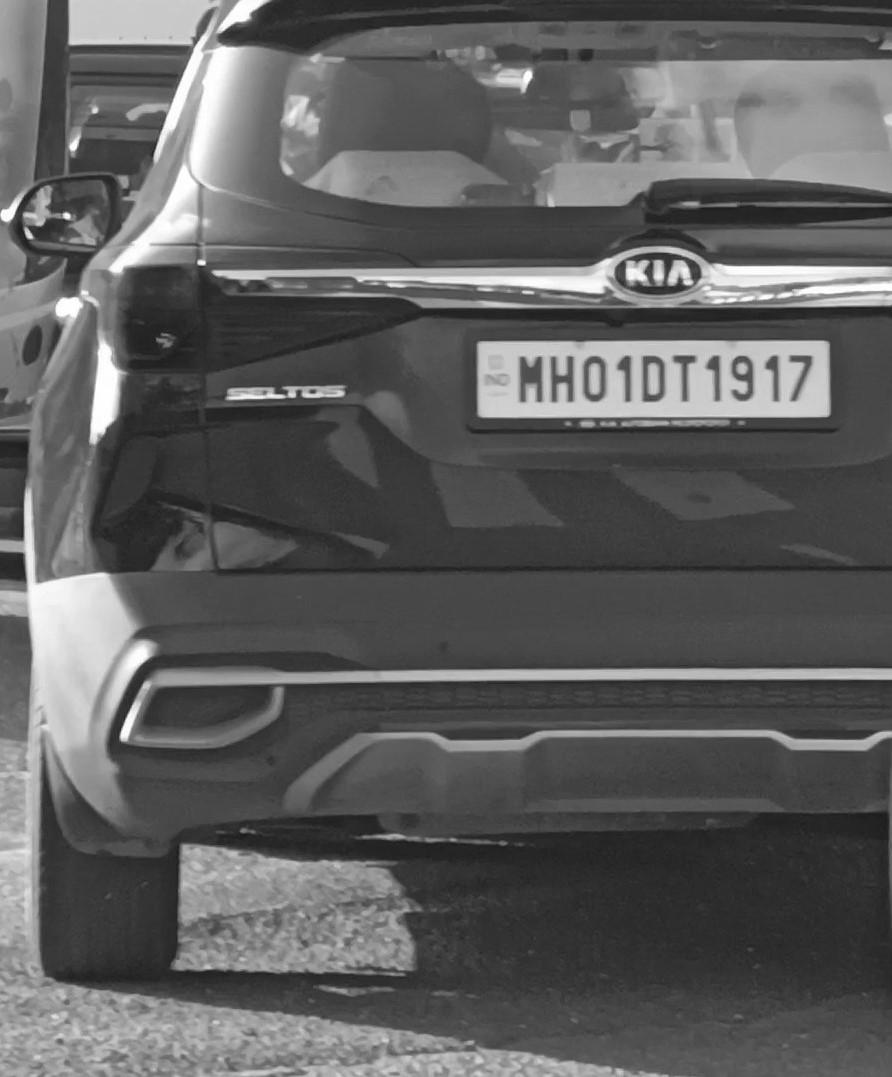number_plate: (478, 348, 833, 429)
